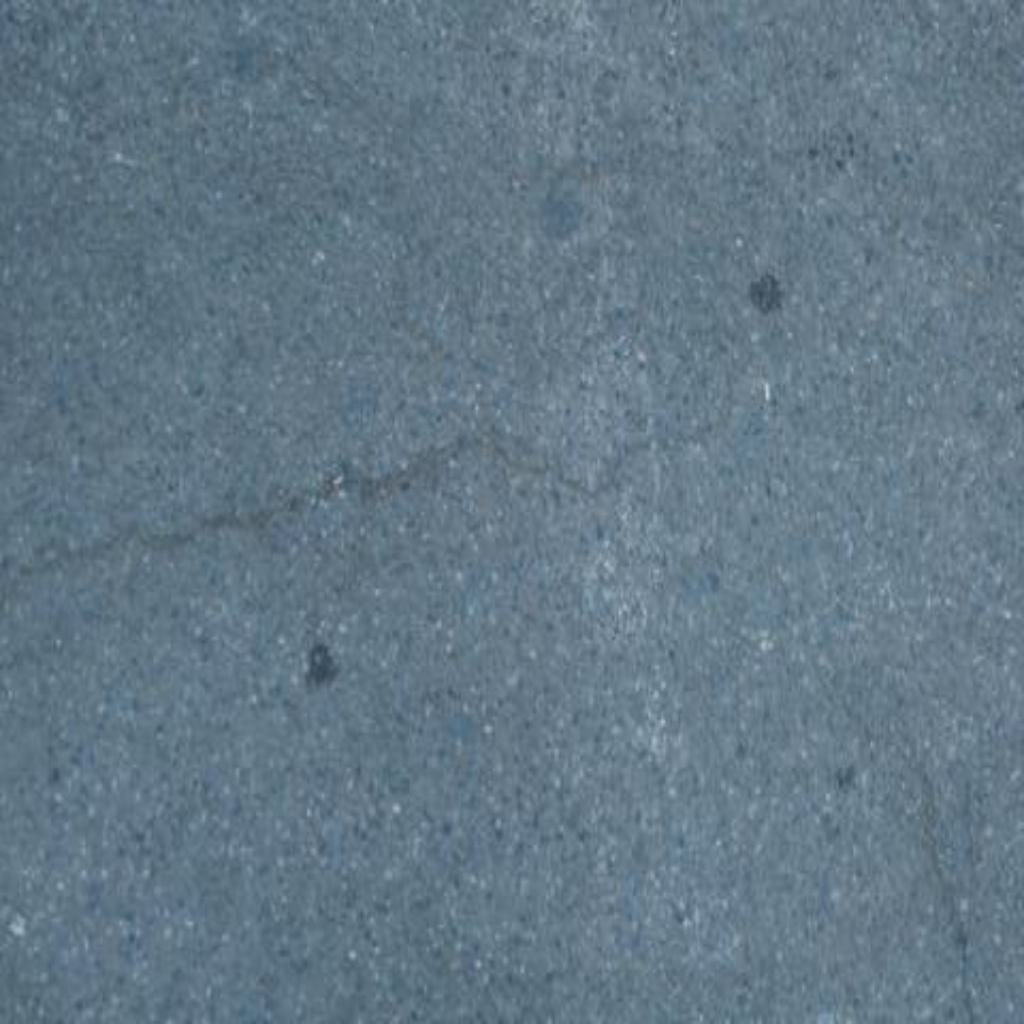Crack: (1, 422, 716, 573), (913, 764, 973, 1024)
